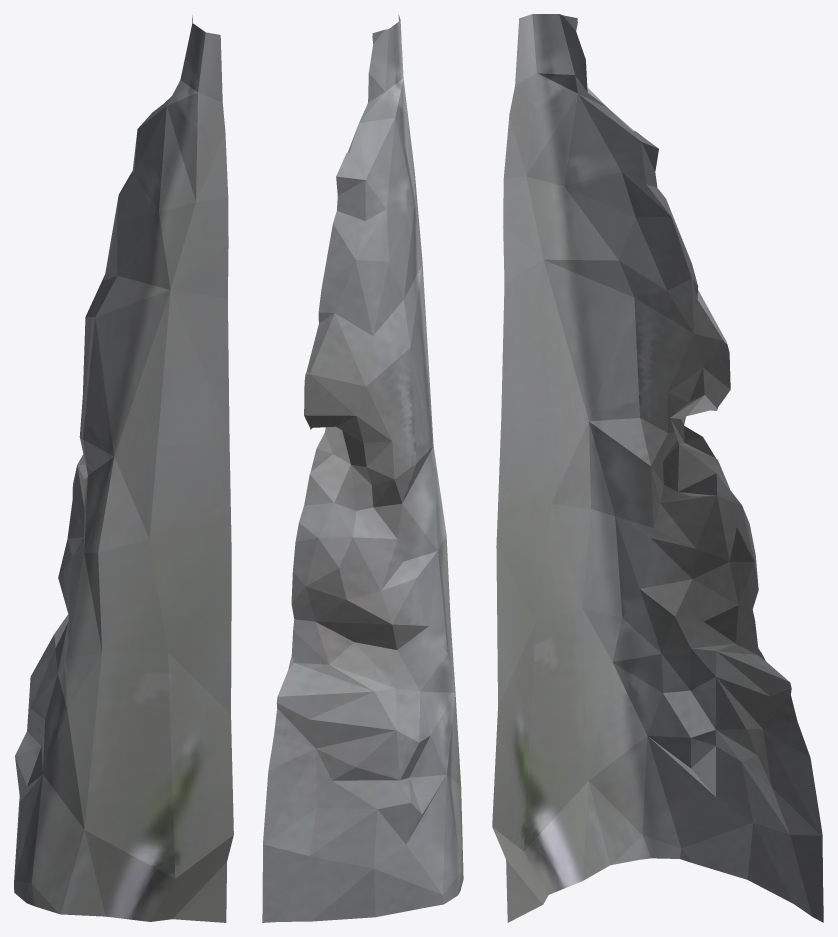
The picture shows the model from 3 angles, left to right: view 1: azimuth 30°, elevation 25°; view 2: azimuth 150°, elevation 25°; view 3: azimuth 270°, elevation 25°; orthographic projection. The views are drawn at different scales.
Size of the model in its own units: 0.1283 by 0.8374 by 0.2782.
Materials: 1 (1 with a texture image).
